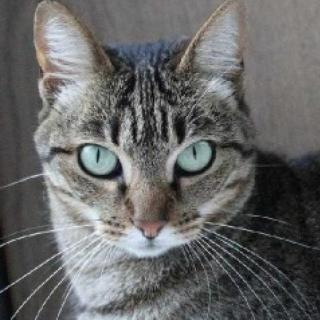cat: (19, 0, 268, 259)
nose: (117, 190, 178, 243)
